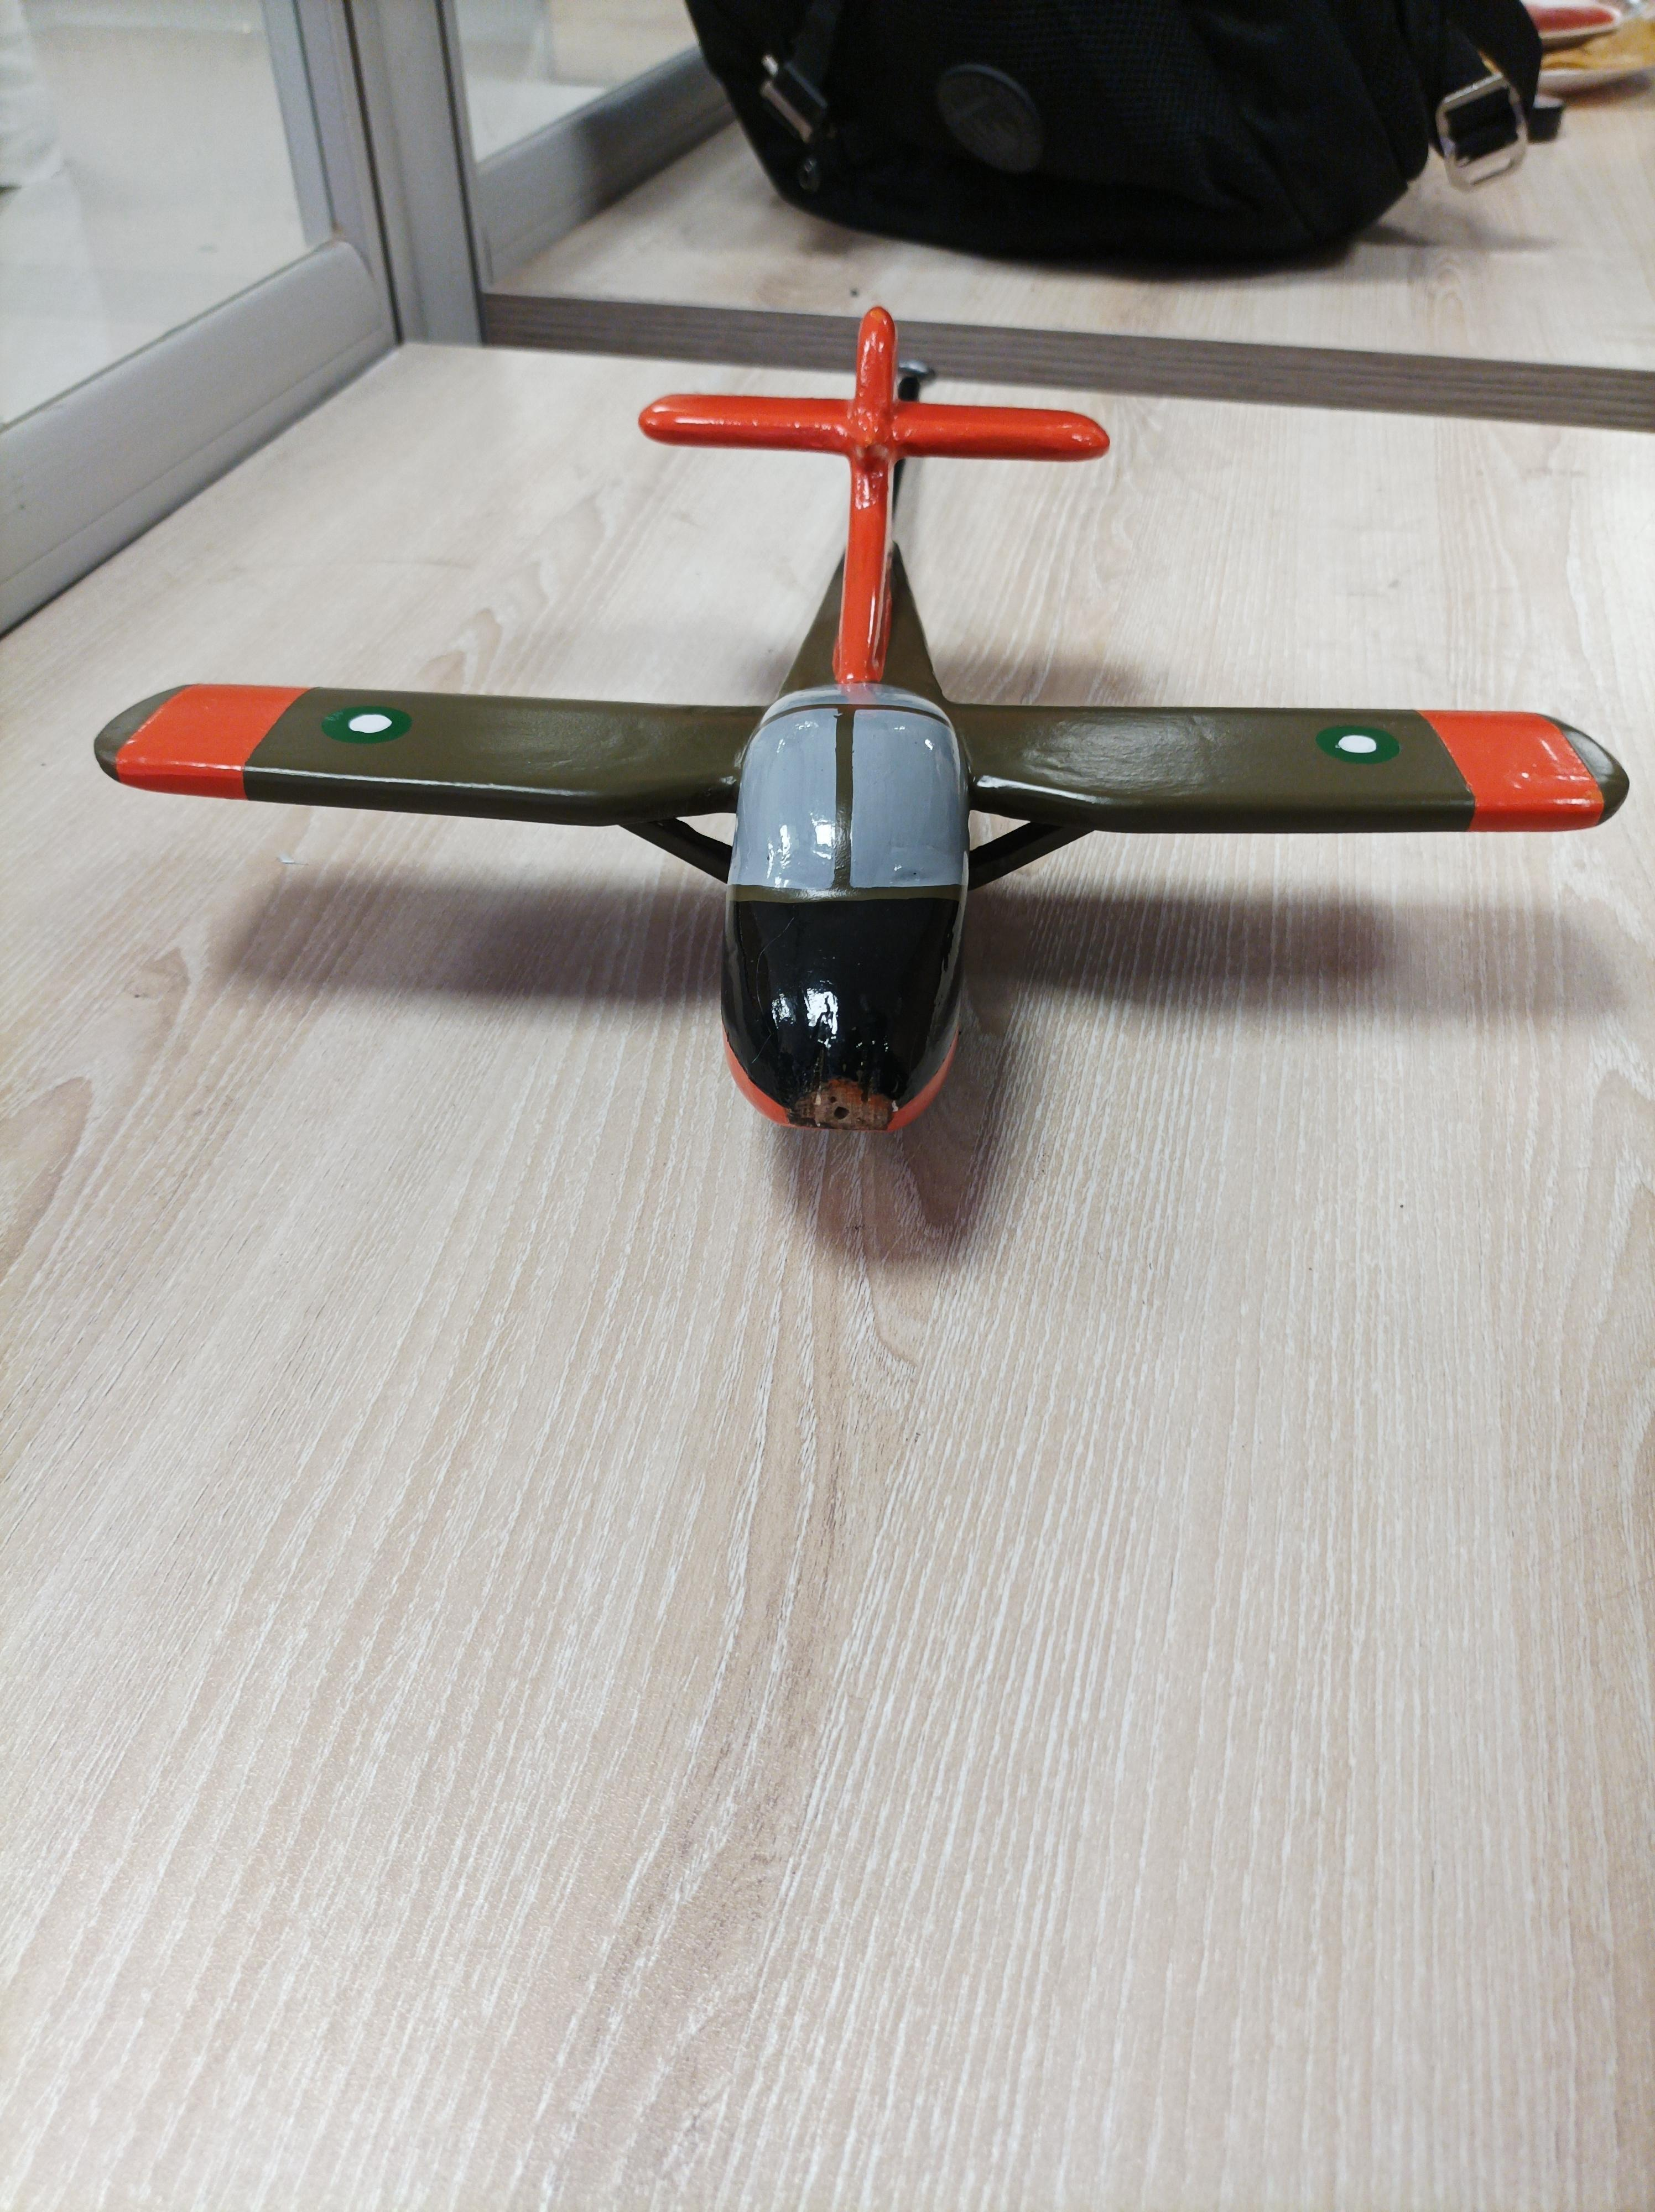Airplane: (89, 254, 1643, 1145), (92, 268, 1643, 1150)
